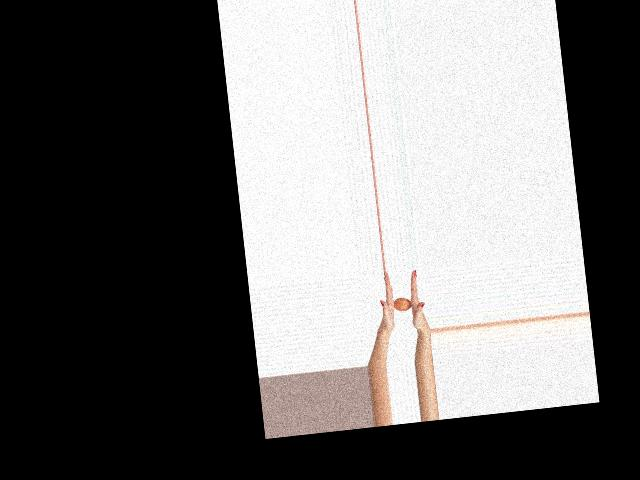egg: (392, 297, 411, 312)
